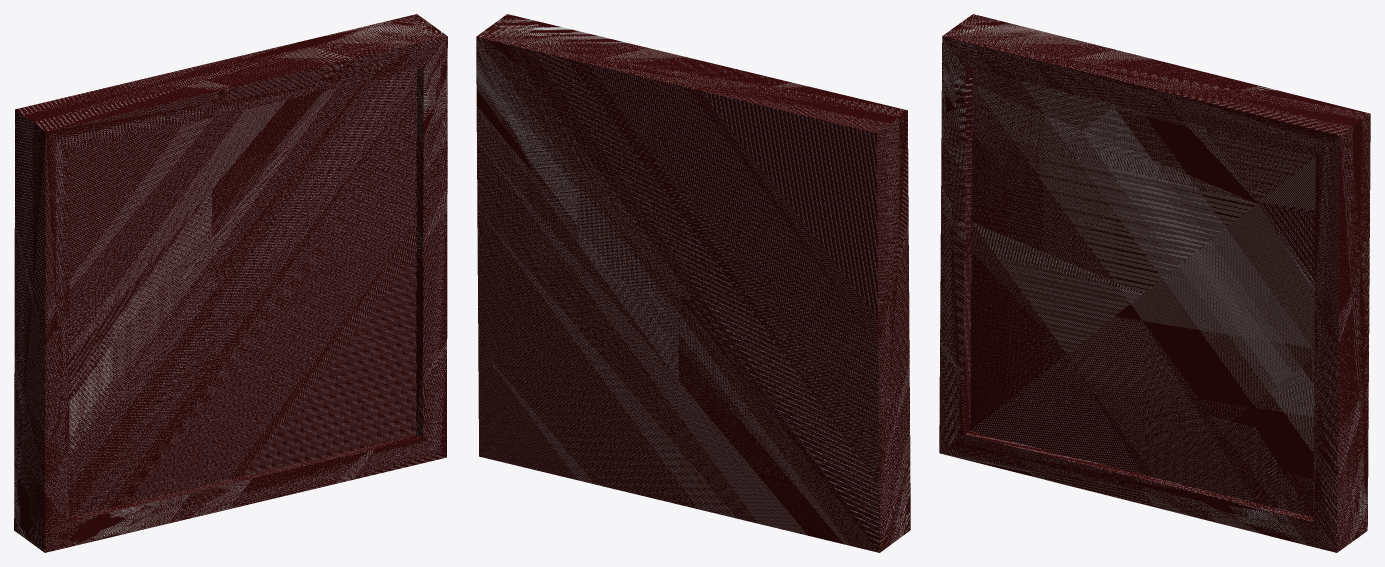
File: original-42.obj
The picture shows the model from 3 angles, left to right: view 1: azimuth 30°, elevation 25°; view 2: azimuth 150°, elevation 25°; view 3: azimuth 330°, elevation 25°; orthographic projection.
Parts seen in each view (by area): view 1: #ID159; view 2: #ID159; view 3: #ID159.
Boxes of the visible parts, x1,y1,x2,y2 form: #ID159: (14, 14, 447, 552); #ID159: (476, 14, 910, 552); #ID159: (939, 14, 1370, 552).
Size of the model in its own units: 0.0391 by 0.0391 by 0.00546.
